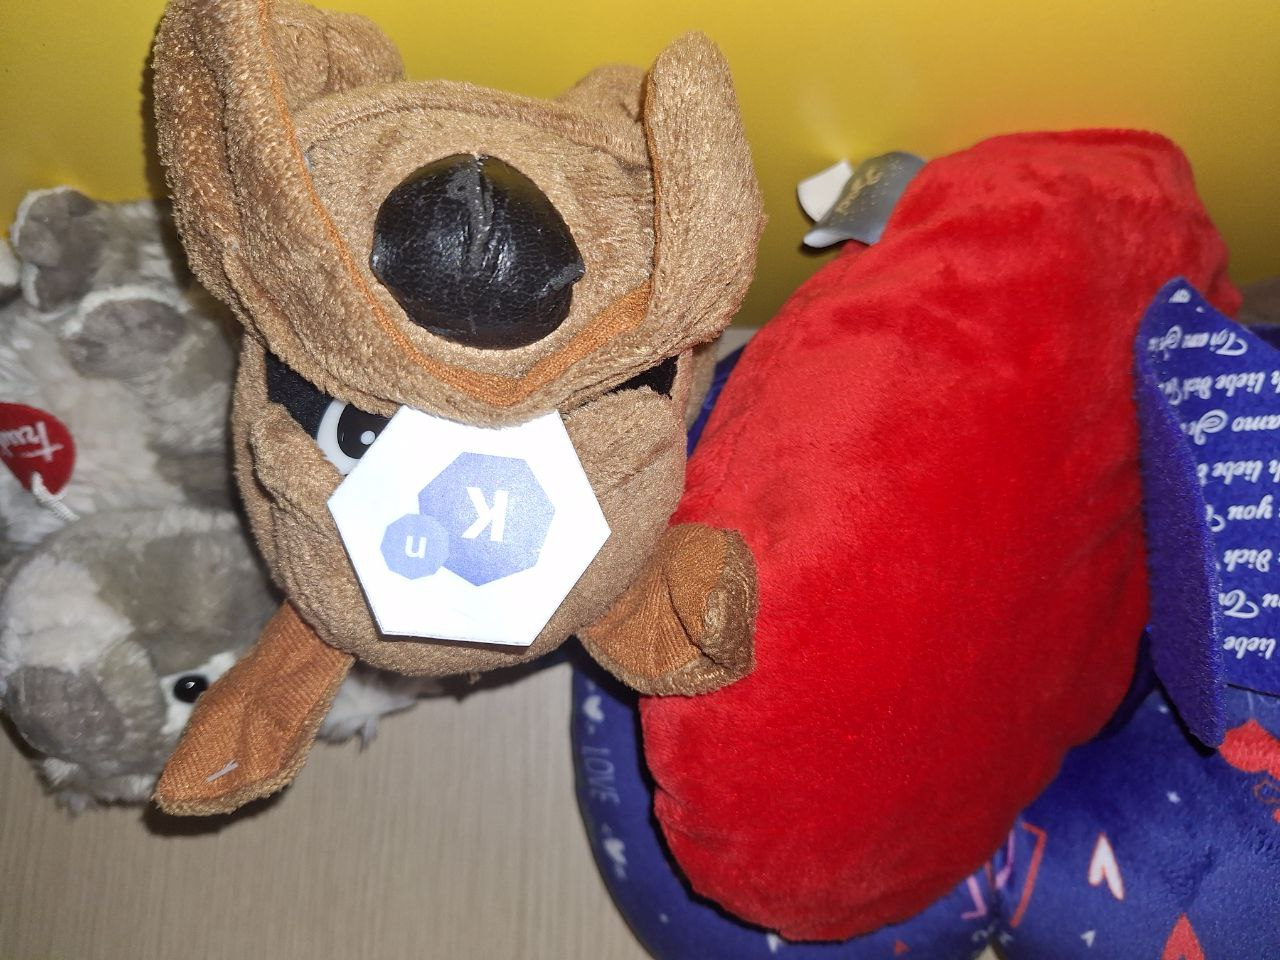knative: (377, 448, 557, 589)
